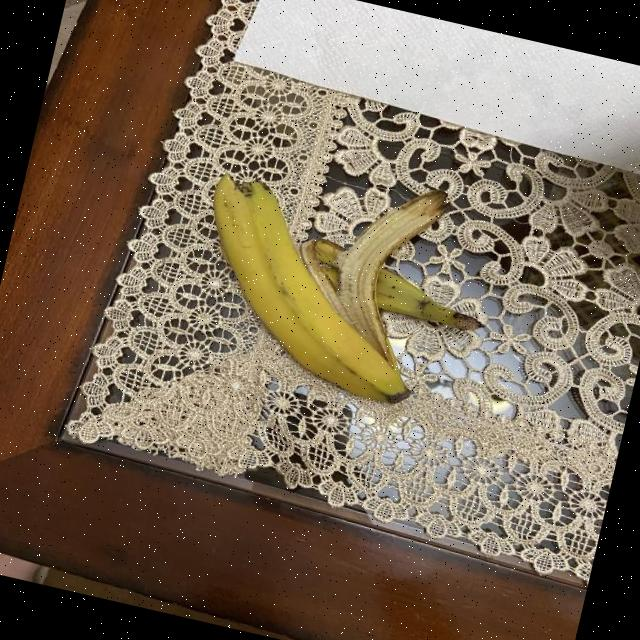banana-peel: (174, 138, 508, 422)
